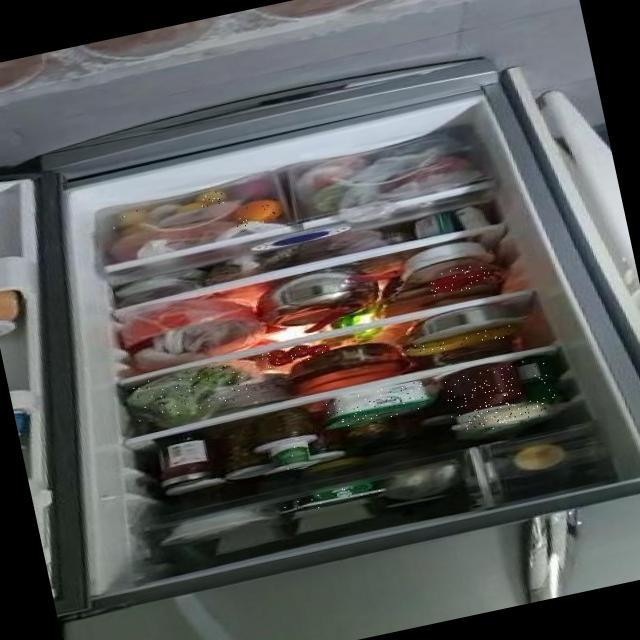Lechuga/Endivia: (127, 358, 251, 423)
Limón: (109, 207, 147, 229), (192, 188, 226, 208)
Plátano: (398, 322, 516, 359)
Queso: (321, 379, 427, 429), (463, 400, 547, 434)
Tomate: (441, 364, 517, 420)
Yogur: (266, 438, 317, 474)
cream: (282, 480, 383, 514)
mineral water: (507, 351, 554, 407)
orange: (229, 196, 279, 227)
tomato paste: (424, 260, 493, 296), (254, 340, 328, 371)
